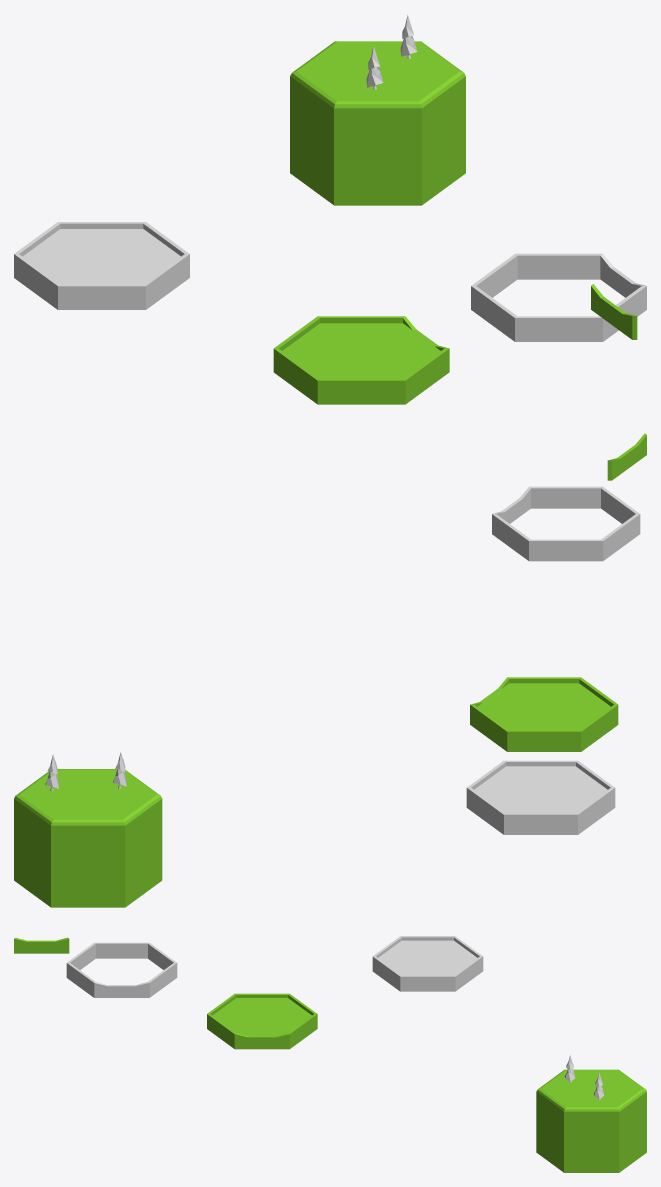
File: Hex Tile Grass 05.glb
3 views of the same model, one above another, from view 1: azimuth 30°, elevation 25°; view 2: azimuth 150°, elevation 25°; view 3: azimuth 270°, elevation 25° (orthographic). The views are drawn at different scales.
Parts seen in each view (by area): view 1: SpruceTree2, border.002, body.001, body, border.001, border, Road.Border; view 2: SpruceTree2, border.002, body.001, body, border, border.001, Road.Border; view 3: SpruceTree2, border.002, body.001, body, border, border.001, Road.Border.
Part boxes in pixels (left/top/right/bottom): SpruceTree2: left=290, top=15, right=465, bottom=205; border.002: left=471, top=253, right=646, bottom=341; body.001: left=282, top=323, right=440, bottom=378; body: left=23, top=229, right=180, bottom=284; border.001: left=273, top=316, right=449, bottom=404; border: left=14, top=222, right=189, bottom=309; Road.Border: left=591, top=284, right=637, bottom=339; SpruceTree2: left=14, top=752, right=162, bottom=907; border.002: left=492, top=486, right=640, bottom=561; body.001: left=477, top=683, right=610, bottom=730; body: left=474, top=766, right=607, bottom=813; border: left=466, top=760, right=615, bottom=834; border.001: left=470, top=677, right=618, bottom=751; Road.Border: left=607, top=433, right=646, bottom=480; SpruceTree2: left=536, top=1055, right=646, bottom=1172; border.002: left=66, top=942, right=177, bottom=997; body.001: left=212, top=998, right=311, bottom=1036; body: left=378, top=940, right=477, bottom=975; border: left=372, top=936, right=483, bottom=991; border.001: left=207, top=993, right=317, bottom=1049; Road.Border: left=14, top=937, right=69, bottom=953.
Size of the model in its own units: 7.07 by 3.04 by 11.45.
